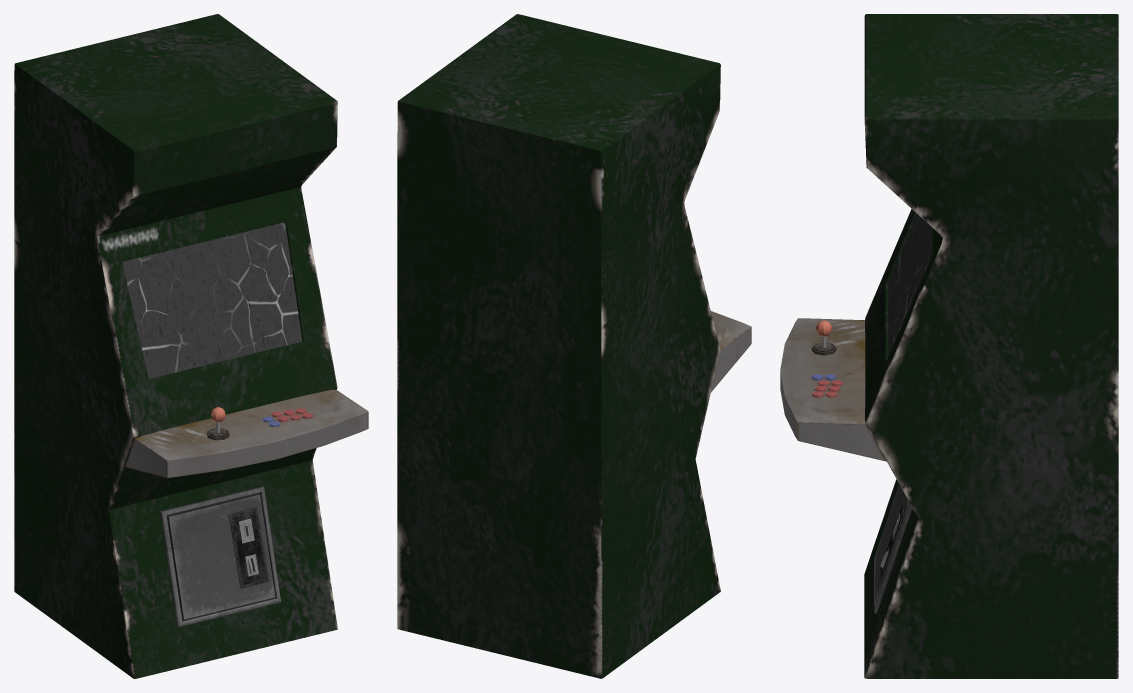
File: Arcade_Var2-green.fbx
The picture shows the model from 3 angles, left to right: view 1: azimuth 30°, elevation 25°; view 2: azimuth 150°, elevation 25°; view 3: azimuth 270°, elevation 25°; orthographic projection. The views are drawn at different scales.
Visible parts, largest first — view 1: Cabinet-green; view 2: Cabinet-green; view 3: Cabinet-green.
Part boxes in pixels (left/top/right/bottom): Cabinet-green: left=14, top=14, right=368, bottom=678; Cabinet-green: left=397, top=14, right=751, bottom=678; Cabinet-green: left=780, top=14, right=1118, bottom=678.
Size of the model in its own units: 129 by 317 by 174.
1 material, 1 textured.
